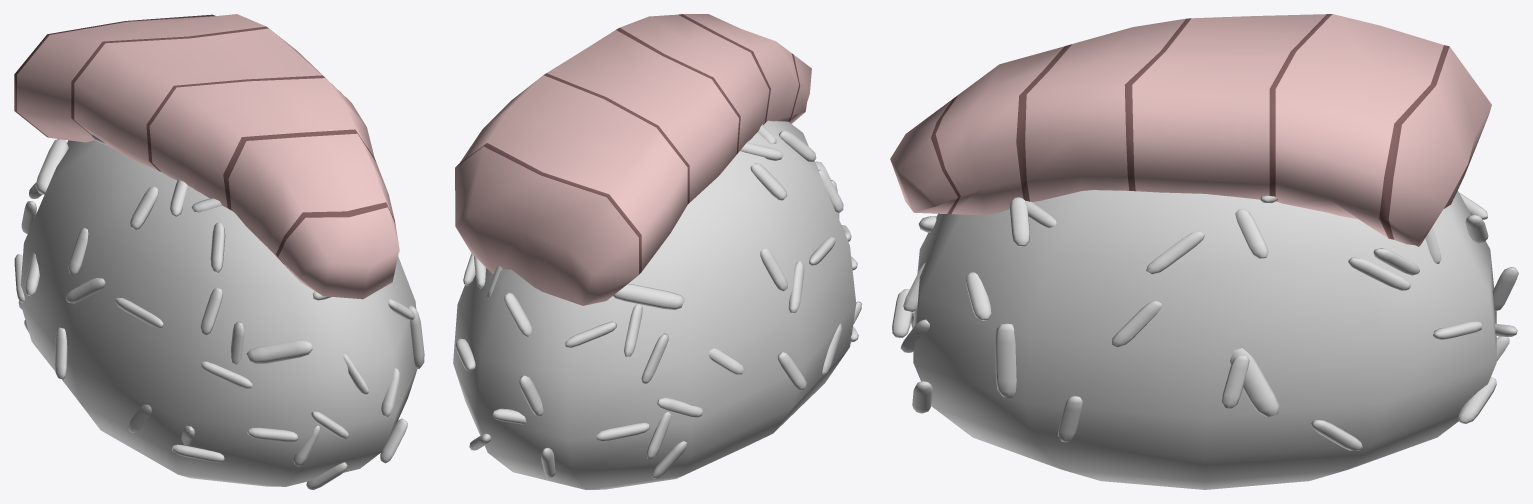
Rendered from FishandRice_SM.fbx.
3 views of the same model, side by side, from view 1: azimuth 30°, elevation 25°; view 2: azimuth 150°, elevation 25°; view 3: azimuth 270°, elevation 25° (orthographic). The views are drawn at different scales.
Visible parts, largest first — view 1: pCube2; view 2: pCube2; view 3: pCube2.
Part boxes in pixels (<box>): pCube2: <box>14,14,424,489</box>; pCube2: <box>453,14,861,489</box>; pCube2: <box>890,14,1518,489</box>.
Size of the model in its own units: 2 by 2.22 by 3.15.
